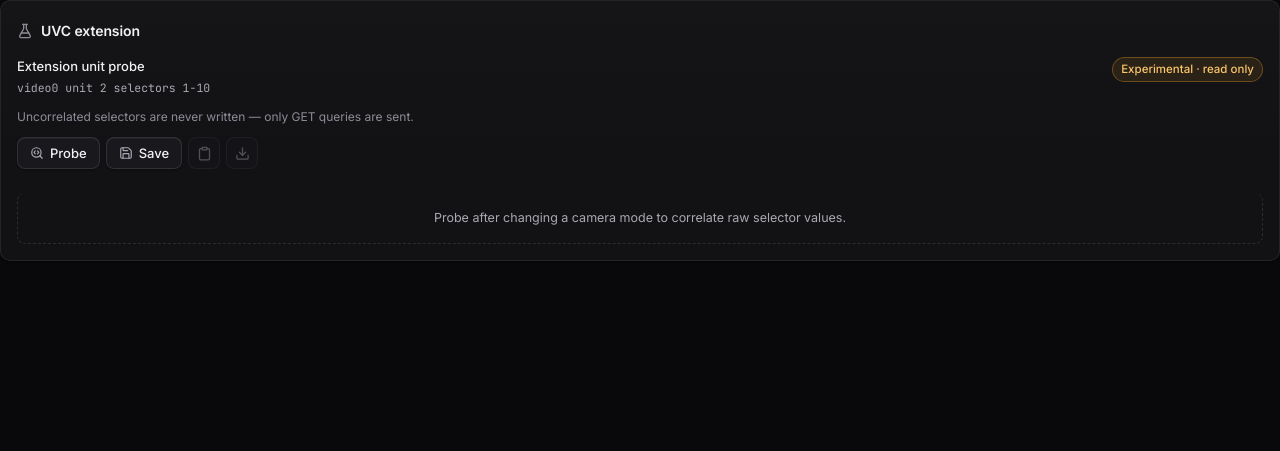
Scenario: ExperimentalPanel › probes UVC extension selectors for the selected device
expect the text "Experimental · read only" is shown: met, box [1112,57,1263,82]
expect the text "never written" is shown: met, box [17,109,414,124]
Click the button "Probe".
click(58, 153)  # box [17,137,100,169]
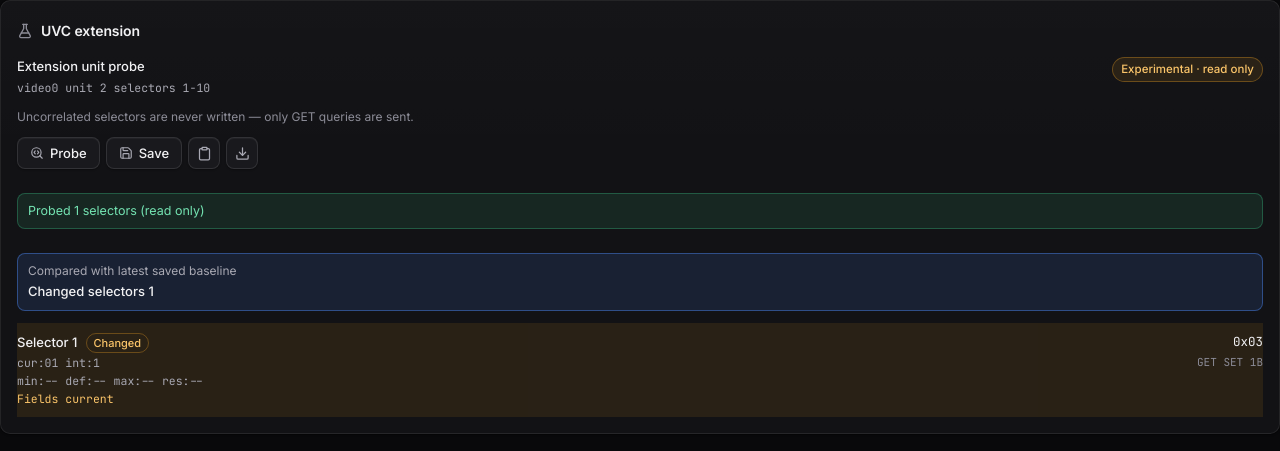
expect the text "Probed 1 selectors (read only)" is shown: met, box [17,193,1263,229]
expect the text "Selector 1" is shown: met, box [17,333,149,353]
expect the text "cur:01 int:1" is shown: met, box [17,355,100,370]
